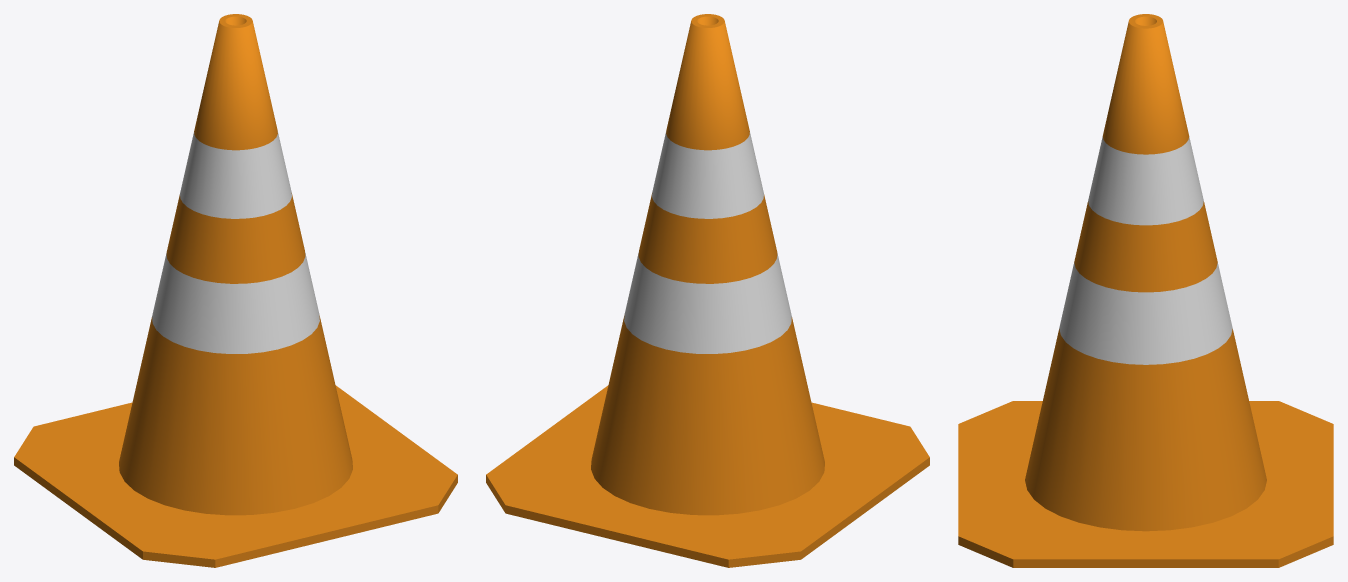
3 renders of one model, left to right at view 1: azimuth 30°, elevation 25°; view 2: azimuth 150°, elevation 25°; view 3: azimuth 270°, elevation 25°, orthographic. The views are drawn at different scales.
Parts seen in each view (by area): view 1: Roadcone; view 2: Roadcone; view 3: Roadcone.
Boxes of the visible parts, box(x1,y1,x2,y2) form: Roadcone: box(14, 14, 457, 567); Roadcone: box(486, 14, 929, 567); Roadcone: box(958, 14, 1333, 567).
Size of the model in its own units: 30.61 by 42.1 by 30.61.
